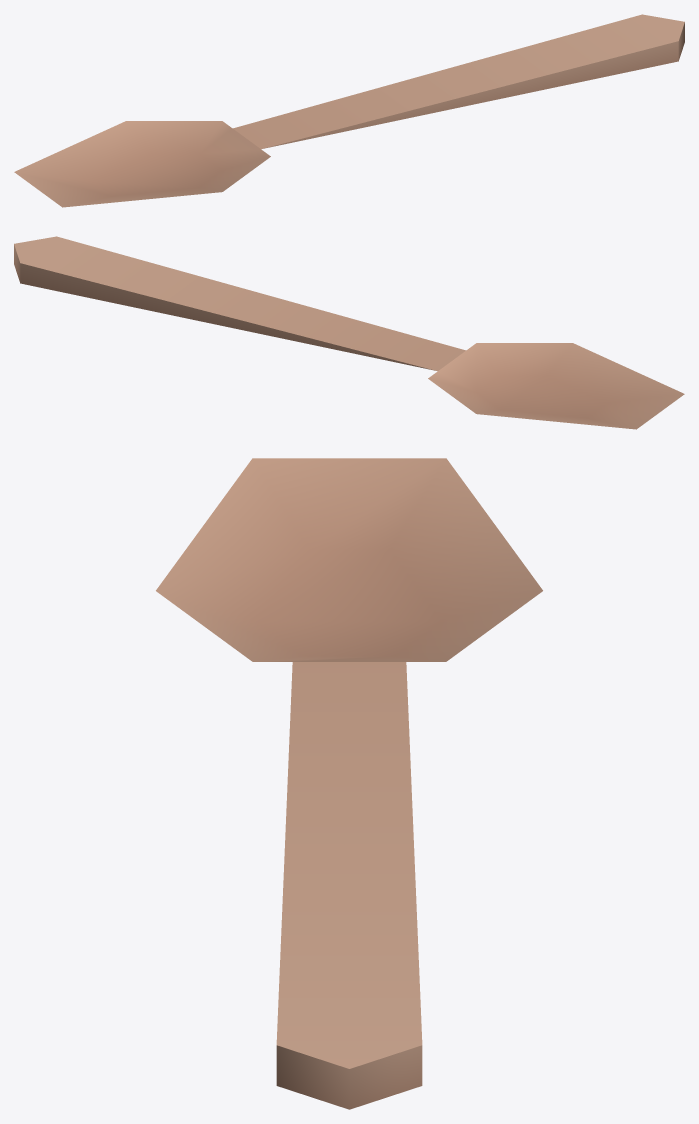
File: cooking-spoon.glb
3 renders of one model, top to bottom at view 1: azimuth 30°, elevation 25°; view 2: azimuth 150°, elevation 25°; view 3: azimuth 270°, elevation 25°, orthographic. The views are drawn at different scales.
Parts seen in each view (by area): view 1: cooking-spoon; view 2: cooking-spoon; view 3: cooking-spoon.
Boxes of the visible parts, x1,y1,x2,y2 form: cooking-spoon: (14, 14, 684, 207); cooking-spoon: (14, 236, 684, 429); cooking-spoon: (156, 458, 542, 1109).
Bounding box in the file's own units: 0.6656 × 0.0244 × 0.1728.
